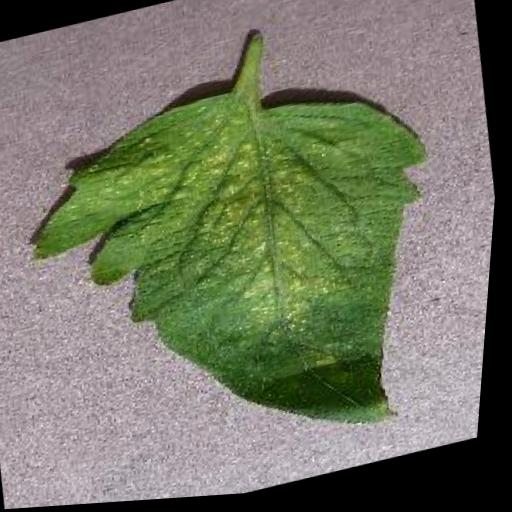Spider Mites: (0, 48, 479, 502)
